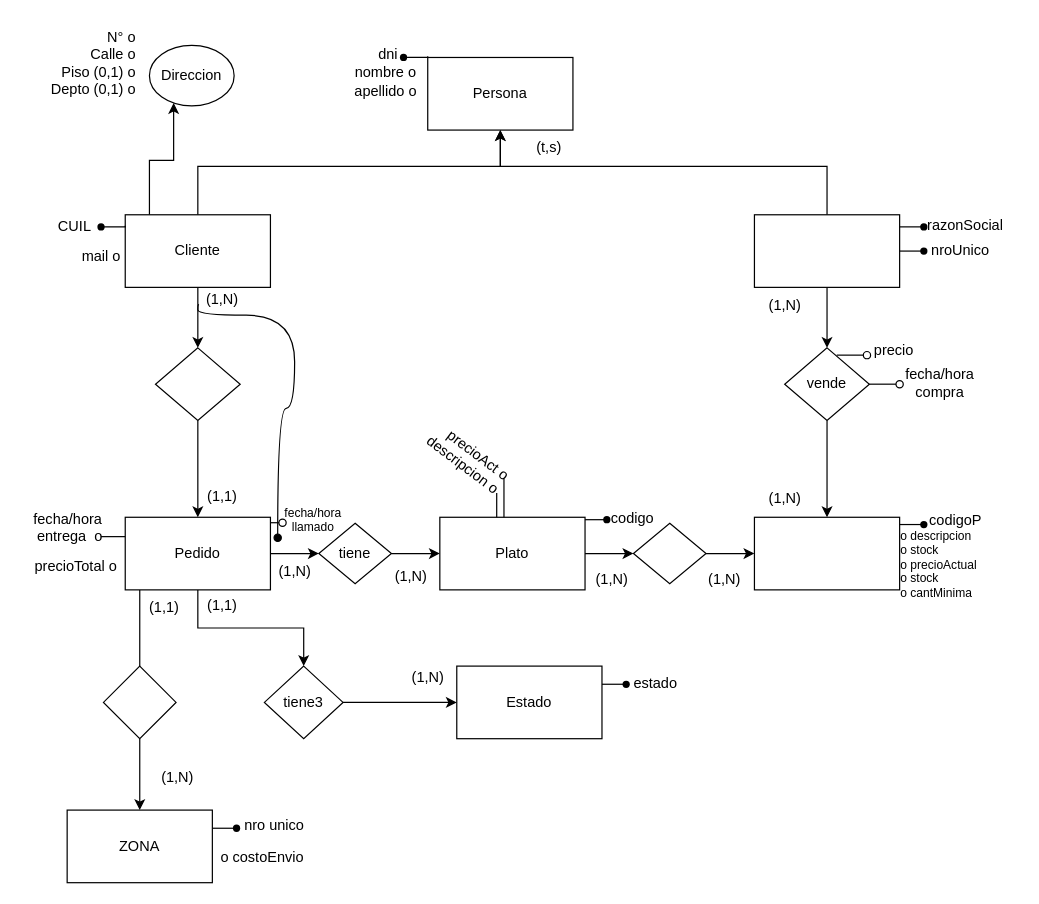
Some shapes in this 1039 by 904 pixel diagram are drawn without their labels. Here are the shapes that lost their labels. From the top down, the centre of each, then its label:
point (826, 250): Proveedor
point (197, 383): realiza
point (669, 553): tiene2
point (826, 553): Producto
point (139, 702): se reparte
